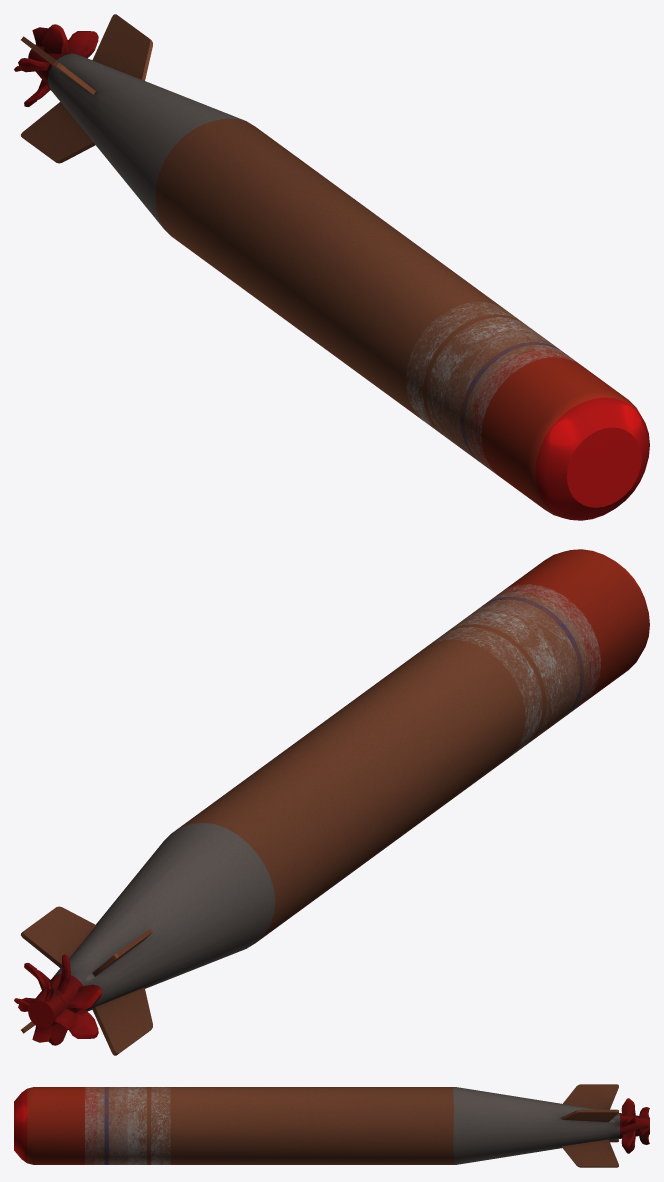
File: torpedo_mk46.dae
3 views of the same model, one above another, from view 1: azimuth 30°, elevation 25°; view 2: azimuth 150°, elevation 25°; view 3: azimuth 270°, elevation 25° (orthographic). The views are drawn at different scales.
Visible parts, largest first — view 1: Mark 46 Torpedo; view 2: Mark 46 Torpedo; view 3: Mark 46 Torpedo.
Boxes of the visible parts, x1,y1,x2,y2 form: Mark 46 Torpedo: (14, 14, 649, 520); Mark 46 Torpedo: (14, 549, 649, 1055); Mark 46 Torpedo: (14, 1084, 649, 1167).
Bounding box in the file's own units: 0.3238 × 2.64 × 0.3238.
Materials: 1 (1 with a texture image).
